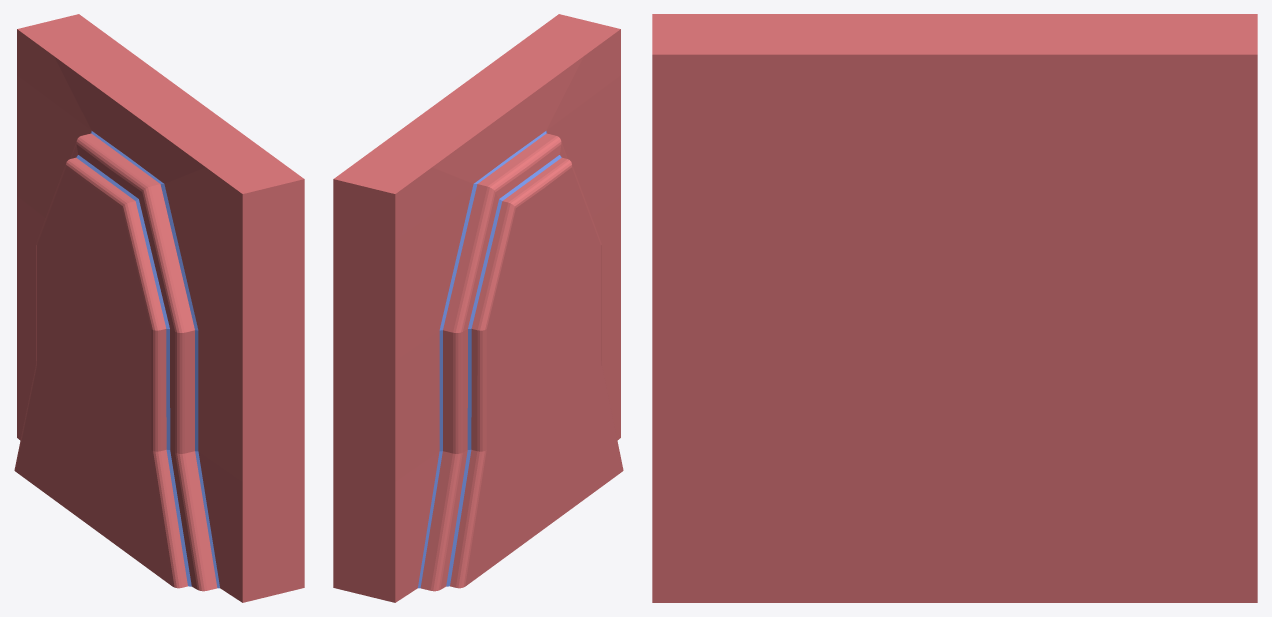
File: 21-AncientWall.fbx
The picture shows the model from 3 angles, left to right: view 1: azimuth 30°, elevation 25°; view 2: azimuth 150°, elevation 25°; view 3: azimuth 270°, elevation 25°; orthographic projection. The views are drawn at different scales.
Visible parts, largest first — view 1: AncientWall; view 2: AncientWall; view 3: AncientWall.
Part boxes in pixels (x1,y1,x2,y2): AncientWall: [14, 14, 304, 602]; AncientWall: [333, 14, 623, 602]; AncientWall: [652, 14, 1257, 602].
Size of the model in its own units: 100 by 400 by 400.
